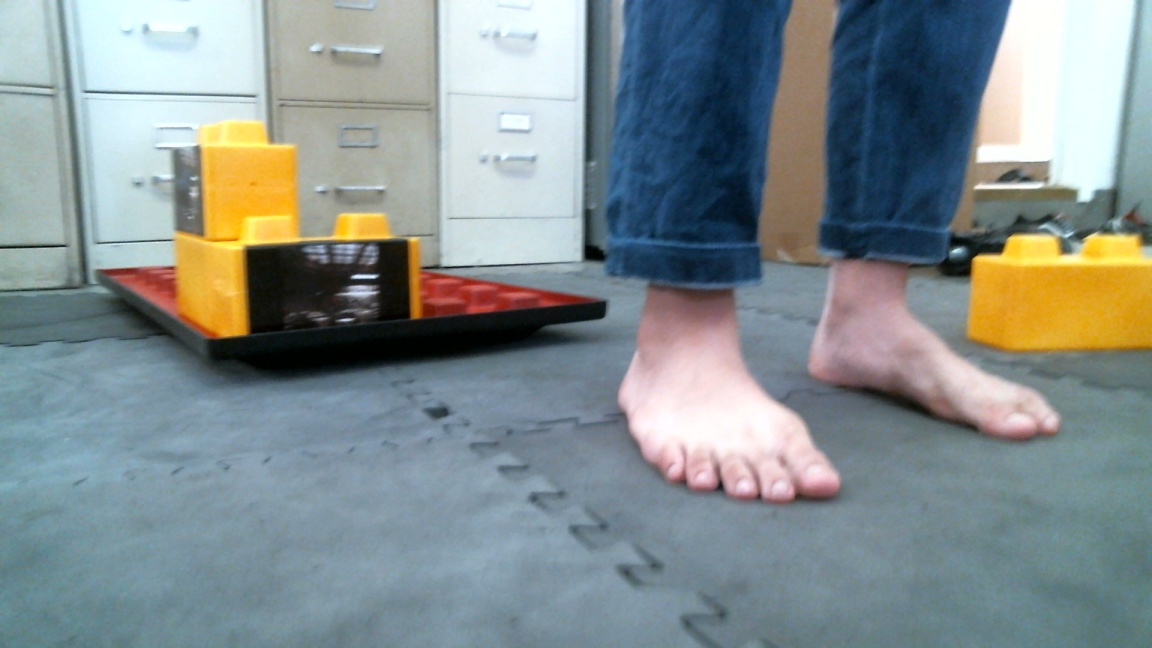red_foundation: (96, 263, 603, 378)
skystone: (171, 119, 299, 241), (209, 243, 415, 316)
stone: (968, 236, 1151, 352)
